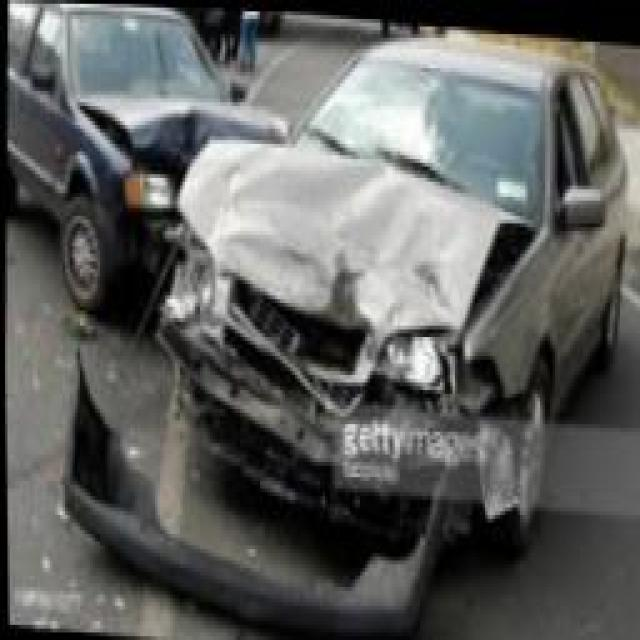Bonnet: (175, 131, 533, 408)
Bumper: (159, 320, 459, 552)
Light: (376, 323, 461, 392), (172, 232, 214, 317)
